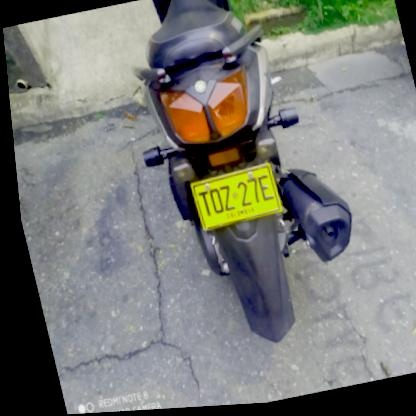placa: (180, 161, 285, 239)
